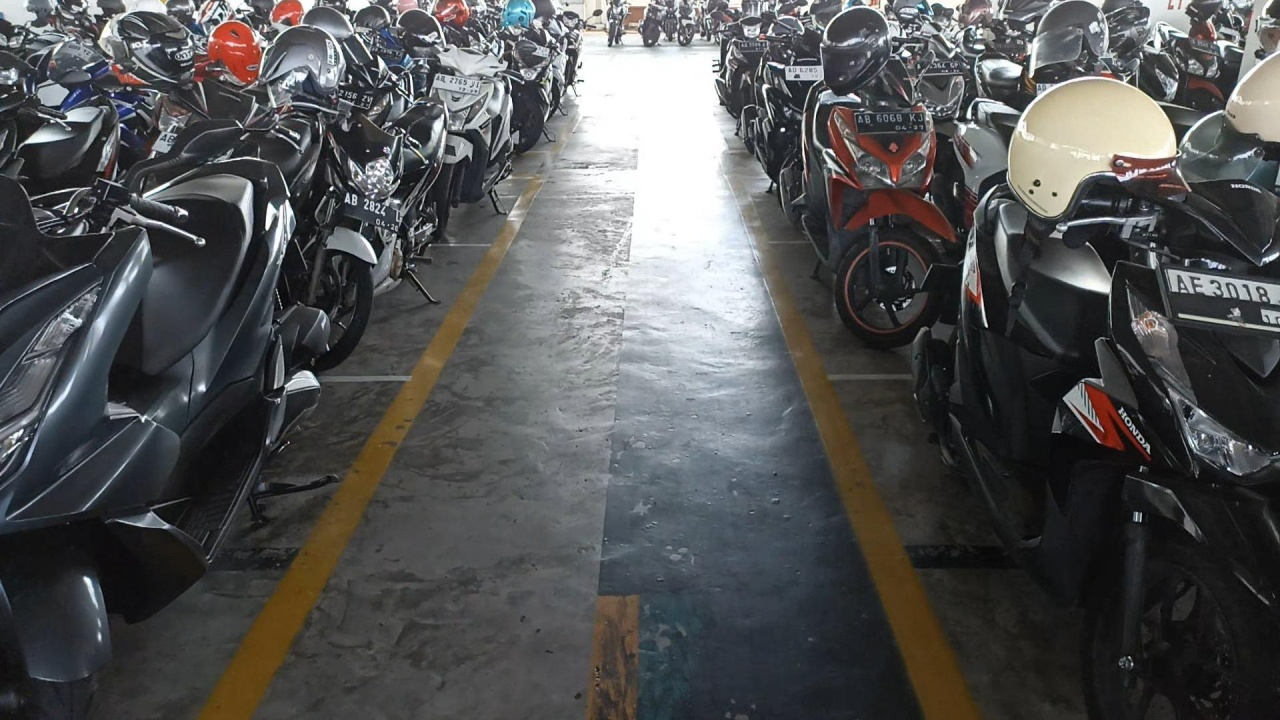plate: (340, 191, 400, 233), (855, 112, 928, 136), (433, 74, 482, 95)
